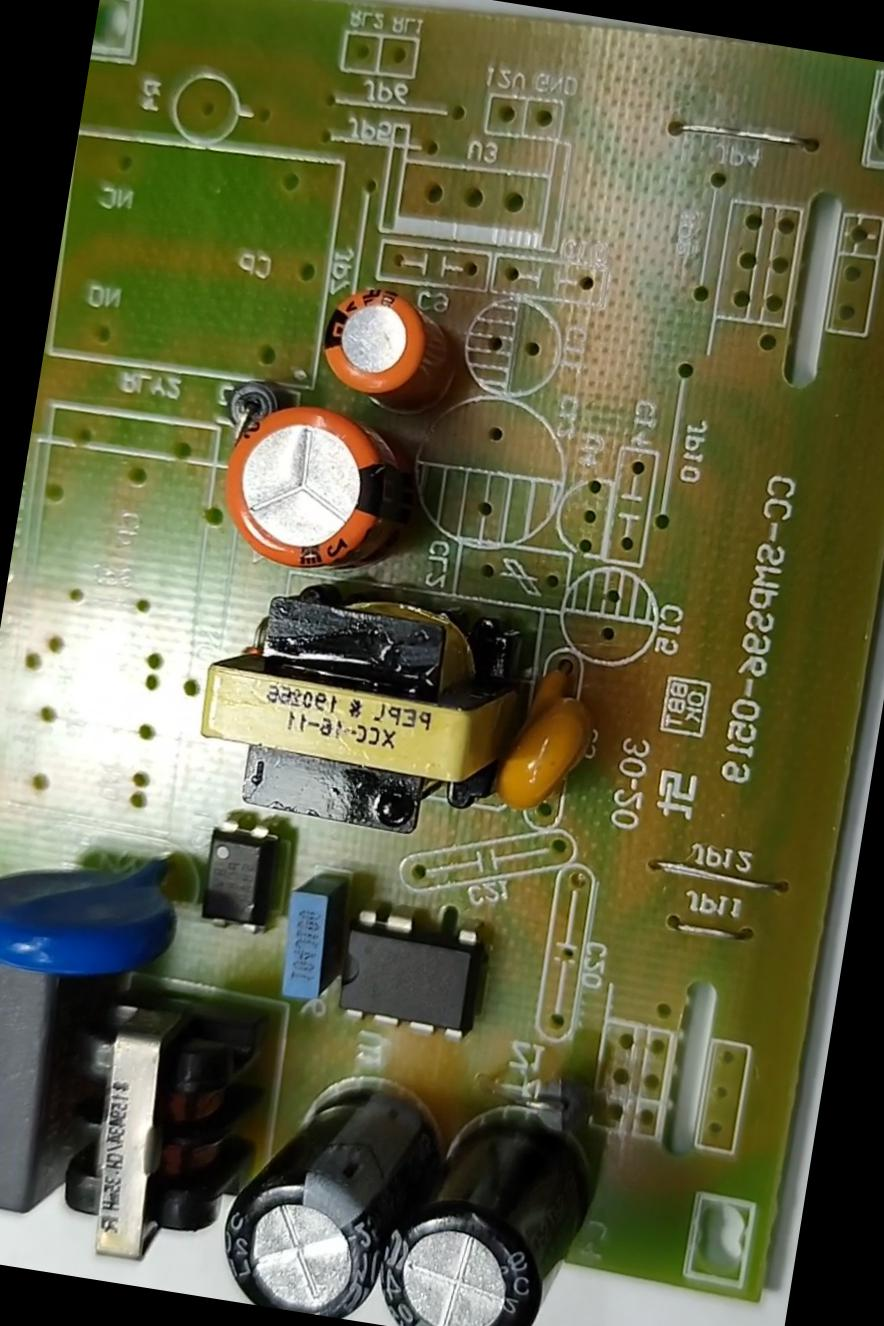Cap1: (188, 384, 440, 586)
Cap2: (302, 264, 474, 426)
Cap3: (211, 1040, 428, 1320)
Cap4: (361, 1082, 628, 1325)
MOSFET: (275, 867, 539, 1072)
Mov: (0, 808, 223, 1038)
Transformer: (108, 542, 593, 868), (31, 966, 295, 1288)
